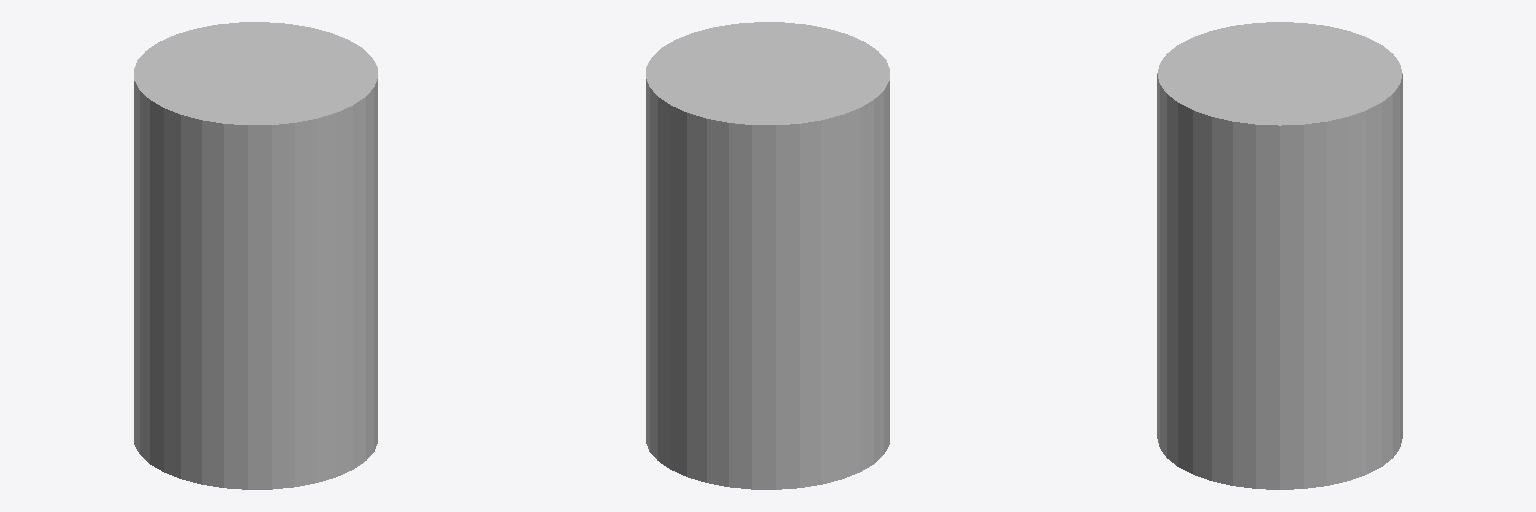
File: PlayerBullet1.obj
3 views of the same model, side by side, from view 1: azimuth 30°, elevation 25°; view 2: azimuth 150°, elevation 25°; view 3: azimuth 270°, elevation 25° (orthographic).
Parts seen in each view (by area): view 1: 円柱; view 2: 円柱; view 3: 円柱.
Part boxes in pixels (bbox=[...]): 円柱: bbox=[134, 22, 377, 489]; 円柱: bbox=[646, 22, 889, 489]; 円柱: bbox=[1157, 22, 1402, 489].
Size of the model in its own units: 0.8105 by 1.33 by 0.8105.